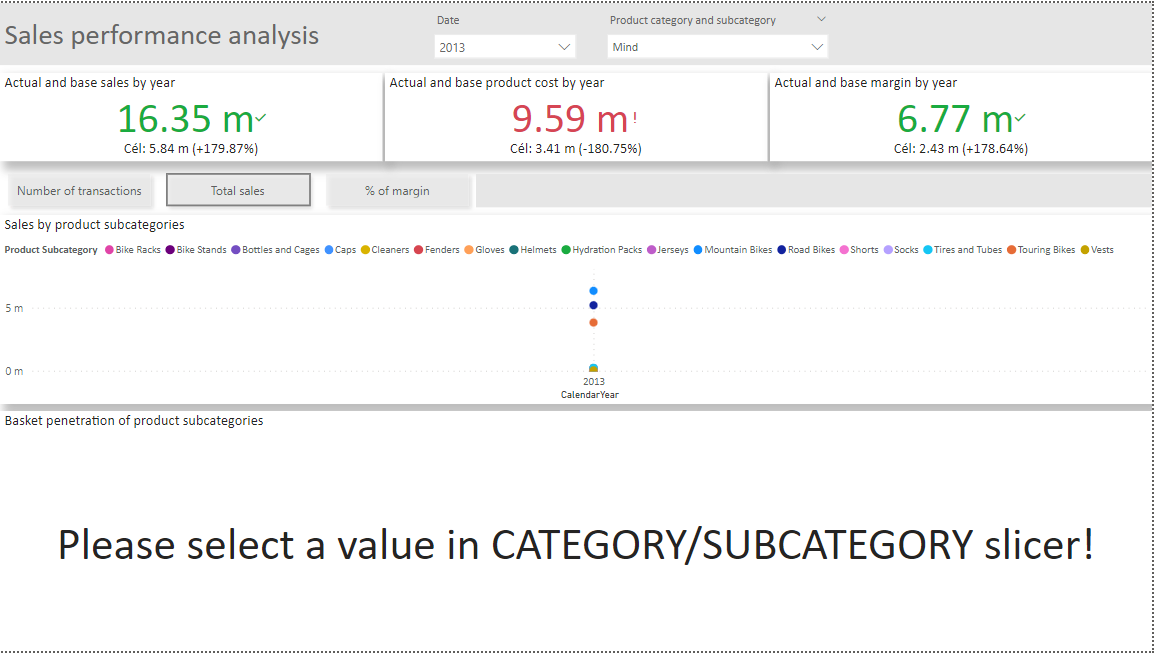

The dashboard page shown, as its layout file describes it:
{"tool":"powerbi","page":{"name":"Transactions - Sales","canvas":[1280,720],"ordinal":0},"visuals":[{"type":"kpi","title":"Actual and base sales by year","fields":{"Indicator":["MeasureTable.ActualPeriodTotalSales"],"Goal":["MeasureTable.BasePeriodTotalSales"],"TrendLine":["DimDate.DateHierarchy.CalendarYear"]},"box":[0,78,424.5,98],"z":0,"group":"g1"},{"type":"kpi","title":"Actual and base product cost by year","fields":{"TrendLine":["DimDate.DateHierarchy.CalendarYear"],"Indicator":["MeasureTable.ActualPeriodTotalCost"],"Goal":["MeasureTable.BasePeriodTotalCost"]},"box":[427.7,78,424.5,98],"z":1000,"group":"g1"},{"type":"shape","title":"Box","box":[0,0,1280,69.1],"z":2000},{"type":"kpi","title":"Actual and base margin by year","fields":{"Indicator":["MeasureTable.ActualPeriodTotalMargin"],"Goal":["MeasureTable.BasePeriodTotalMargin"],"TrendLine":["DimDate.DateHierarchy.CalendarYear"]},"box":[855.5,78,424.5,98],"z":2000,"group":"g1"},{"type":"textbox","title":"Header","box":[0,9.7,554.4,50.6],"z":3000},{"type":"slicer","title":"Category/subcategory slicer","fields":{"Values":["DimProduct.CategoryHierarchy.Product Category","DimProduct.CategoryHierarchy.Product Subcategory"]},"box":[664.1,5.3,266.3,59.9],"z":4000},{"type":"slicer","title":"Date slicer","fields":{"Values":["DimDate.DateHierarchy.CalendarYear","DimDate.DateHierarchy.Year-quarter","DimDate.DateHierarchy.Year-month"]},"box":[472.6,5.3,177.5,59.9],"z":5000},{"type":"group","id":"g1","title":"KPI cards","box":[0,78,1280,98],"z":6000},{"type":"lineChart","title":"Number of transactions by product subcategories","fields":{"Category":["DimDate.DateHierarchy.CalendarYear","DimDate.DateHierarchy.Year-quarter","DimDate.DateHierarchy.Year-month","DimDate.DateHierarchy.Month-day"],"Series":["DimProduct.CategoryHierarchy.Product Subcategory"],"Y":["MeasureTable.NumberOfTransactions"]},"box":[0,235.3,1280,210.2],"z":7000},{"type":"lineChart","title":"Basket penetration of product subcategories","fields":{"Y":["MeasureTable.CategoryBasketPenetration"],"Category":["DimDate.DateHierarchy.CalendarYear","DimDate.DateHierarchy.Year-quarter","DimDate.DateHierarchy.Year-month","DimDate.DateHierarchy.Month-day"],"Series":["DimProduct.CategoryHierarchy.Product Subcategory"]},"box":[0,453.1,1280,266.9],"z":8000},{"type":"card","title":"Message","fields":{"Values":["MeasureTable.Message"]},"box":[0,504,1280,184],"z":9000},{"type":"actionButton","title":"Number of transactions button","box":[0,181,176,53],"z":10000},{"type":"actionButton","title":"Total sales button","box":[176,181,177,53],"z":11000},{"type":"actionButton","title":"%margin button","box":[353,181,176,53],"z":12000},{"type":"shape","title":"Box","box":[528.9,190,751.1,36.7],"z":13000},{"type":"shape","box":[7.5,188.8,160.8,37.1],"z":14000}]}

Visuals, with their boxes in screenshot pixels (x1, y1, x2, y2), scaled from the page's 1280x720 canvas onto the 1154x654 screenshot:
"Actual and base sales by year" kpi: {"x1": 0, "y1": 71, "x2": 383, "y2": 160}
"Actual and base product cost by year" kpi: {"x1": 386, "y1": 71, "x2": 768, "y2": 160}
"Box" shape: {"x1": 0, "y1": 0, "x2": 1153, "y2": 63}
"Actual and base margin by year" kpi: {"x1": 771, "y1": 71, "x2": 1153, "y2": 160}
"Header" textbox: {"x1": 0, "y1": 9, "x2": 500, "y2": 55}
"Category/subcategory slicer" slicer: {"x1": 599, "y1": 5, "x2": 839, "y2": 59}
"Date slicer" slicer: {"x1": 426, "y1": 5, "x2": 586, "y2": 59}
"KPI cards" group: {"x1": 0, "y1": 71, "x2": 1153, "y2": 160}
"Number of transactions by product subcategories" lineChart: {"x1": 0, "y1": 214, "x2": 1153, "y2": 405}
"Basket penetration of product subcategories" lineChart: {"x1": 0, "y1": 412, "x2": 1153, "y2": 653}
"Message" card: {"x1": 0, "y1": 458, "x2": 1153, "y2": 625}
"Number of transactions button" actionButton: {"x1": 0, "y1": 164, "x2": 159, "y2": 213}
"Total sales button" actionButton: {"x1": 159, "y1": 164, "x2": 318, "y2": 213}
"%margin button" actionButton: {"x1": 318, "y1": 164, "x2": 477, "y2": 213}
"Box" shape: {"x1": 477, "y1": 173, "x2": 1153, "y2": 206}
shape: {"x1": 7, "y1": 171, "x2": 152, "y2": 205}
